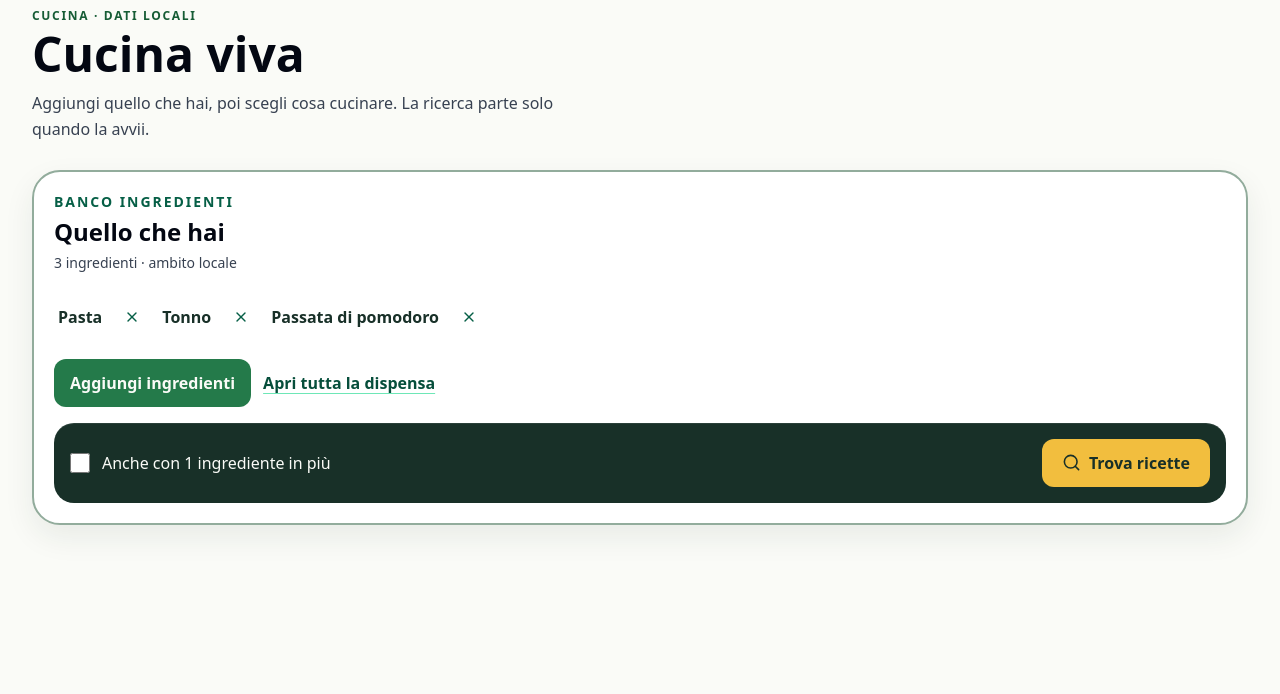
Test: HomePage recipe search › finds recipes from saved pantry items only after an explicit request
Expected: the heading "Ricette per te" is not shown
Step 1. Click the button "Trova ricette" → (1126, 463), box top-left (1042, 439), bottom-right (1210, 487)
(page scrolled)
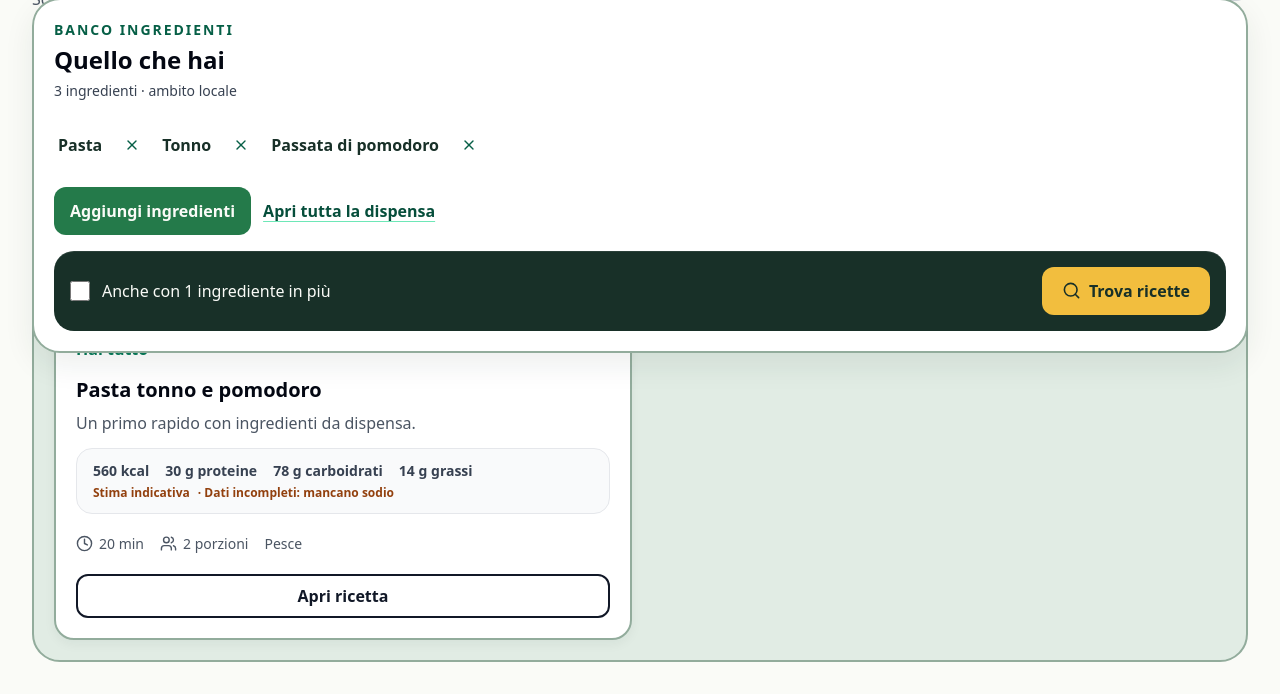
Now the heading "Pasta tonno e pomodoro" is shown, box top-left (76, 376), bottom-right (322, 403)
Now the text "Hai tutto" is shown, box top-left (76, 338), bottom-right (148, 360)
Now the text "2 porzioni" is shown, box top-left (183, 534), bottom-right (248, 554)
